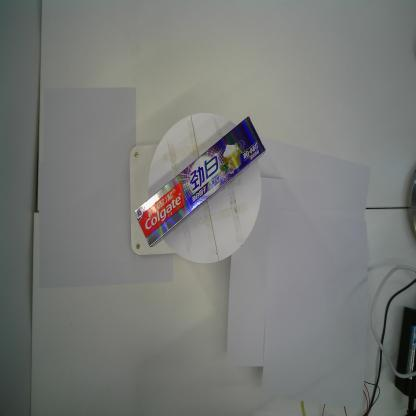Personal Hygiene: (133, 115, 267, 248)
